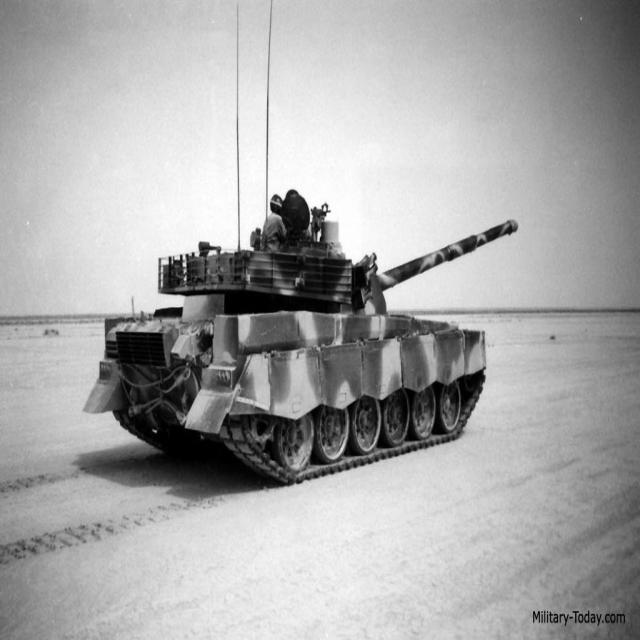Tank: (84, 186, 526, 499)
